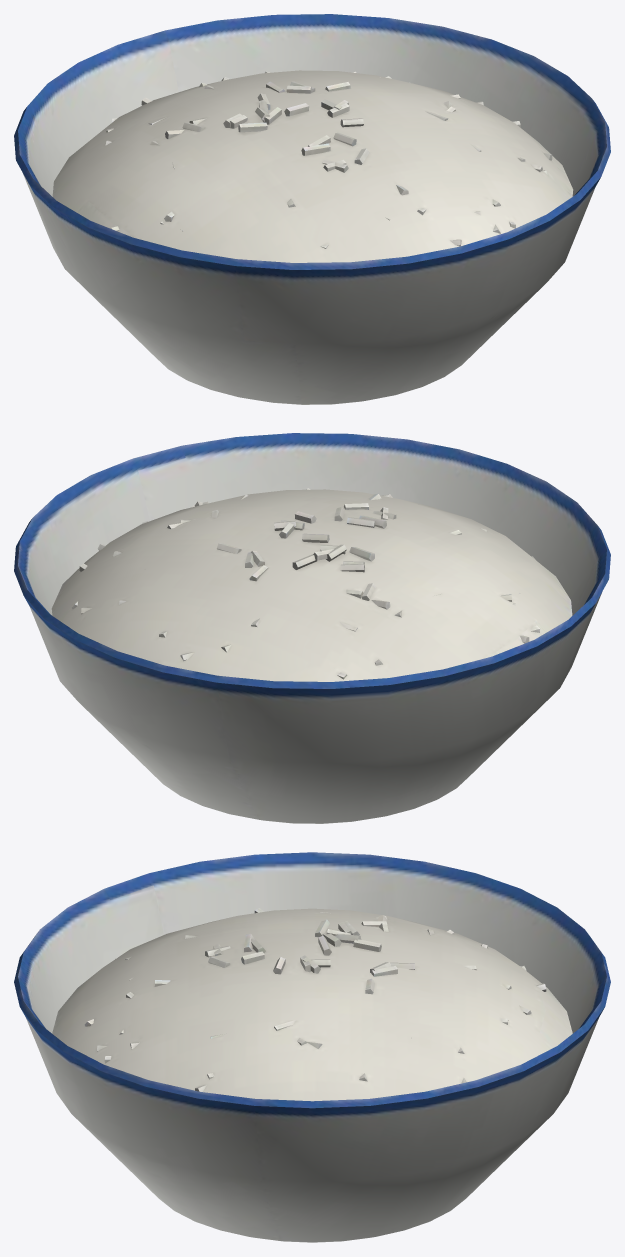
Rendered from arroz_cozido.glb.
The picture shows the model from 3 angles, top to bottom: view 1: azimuth 30°, elevation 25°; view 2: azimuth 150°, elevation 25°; view 3: azimuth 270°, elevation 25°; orthographic projection.
Visible parts, largest first — view 1: tigela, arroz; view 2: tigela, arroz; view 3: tigela, arroz.
Boxes of the visible parts, x1=… form: tigela: x1=14, y1=14, x2=610, y2=404; arroz: x1=52, y1=70, x2=573, y2=262; tigela: x1=14, y1=433, x2=610, y2=823; arroz: x1=51, y1=488, x2=572, y2=681; tigela: x1=14, y1=852, x2=610, y2=1242; arroz: x1=52, y1=908, x2=572, y2=1101.
Bounding box in the file's own units: 0.151 × 0.0652 × 0.151.
1 material, 1 textured.
